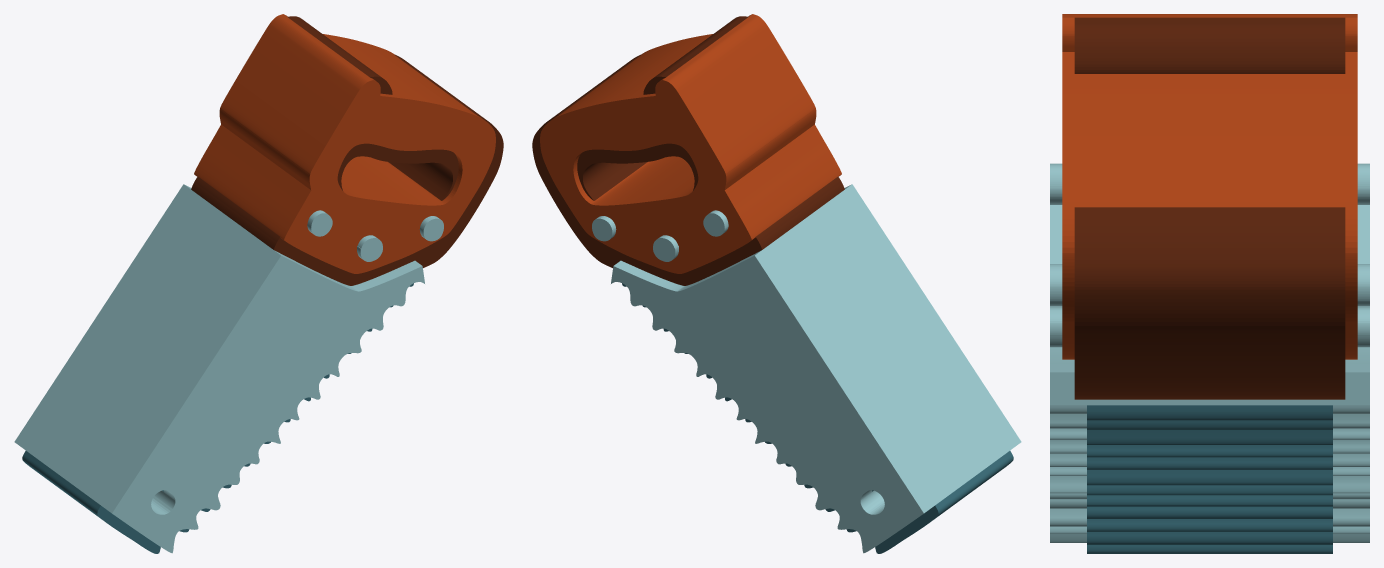
3 renders of one model, left to right at view 1: azimuth 30°, elevation 25°; view 2: azimuth 150°, elevation 25°; view 3: azimuth 270°, elevation 25°, orthographic. The views are drawn at different scales.
Parts seen in each view (by area): view 1: U+1FA9A_layer03_obj02, U+1FA9A_layer02_obj00, U+1FA9A_layer01_obj00, U+1FA9A_layer00_obj00; view 2: U+1FA9A_layer03_obj02, U+1FA9A_layer02_obj00, U+1FA9A_layer01_obj00, U+1FA9A_layer00_obj00; view 3: U+1FA9A_layer01_obj00, U+1FA9A_layer02_obj00, U+1FA9A_layer00_obj00, U+1FA9A_layer03_obj02, U+1FA9A_layer03_obj01, U+1FA9A_layer03_obj00, U+1FA9A_layer03_obj03.
Part boxes in pixels (x1,y1,x2,y2): U+1FA9A_layer03_obj02: (14,184,424,553); U+1FA9A_layer02_obj00: (194,14,495,273); U+1FA9A_layer01_obj00: (191,16,503,285); U+1FA9A_layer00_obj00: (22,283,413,553); U+1FA9A_layer03_obj02: (611,184,1021,553); U+1FA9A_layer02_obj00: (540,14,841,273); U+1FA9A_layer01_obj00: (532,16,844,285); U+1FA9A_layer00_obj00: (622,283,1013,553); U+1FA9A_layer01_obj00: (1074,17,1345,399); U+1FA9A_layer02_obj00: (1062,14,1357,359); U+1FA9A_layer00_obj00: (1087,405,1332,553); U+1FA9A_layer03_obj02: (1050,205,1369,542); U+1FA9A_layer03_obj01: (1050,264,1369,306); U+1FA9A_layer03_obj00: (1050,163,1369,204); U+1FA9A_layer03_obj03: (1050,307,1369,347).
Bounding box in the file's own units: 0.3093 × 0.3148 × 0.13.
